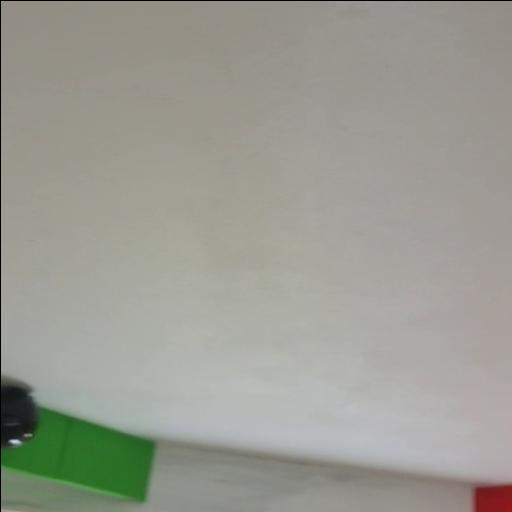dead: (0, 380, 39, 449)
